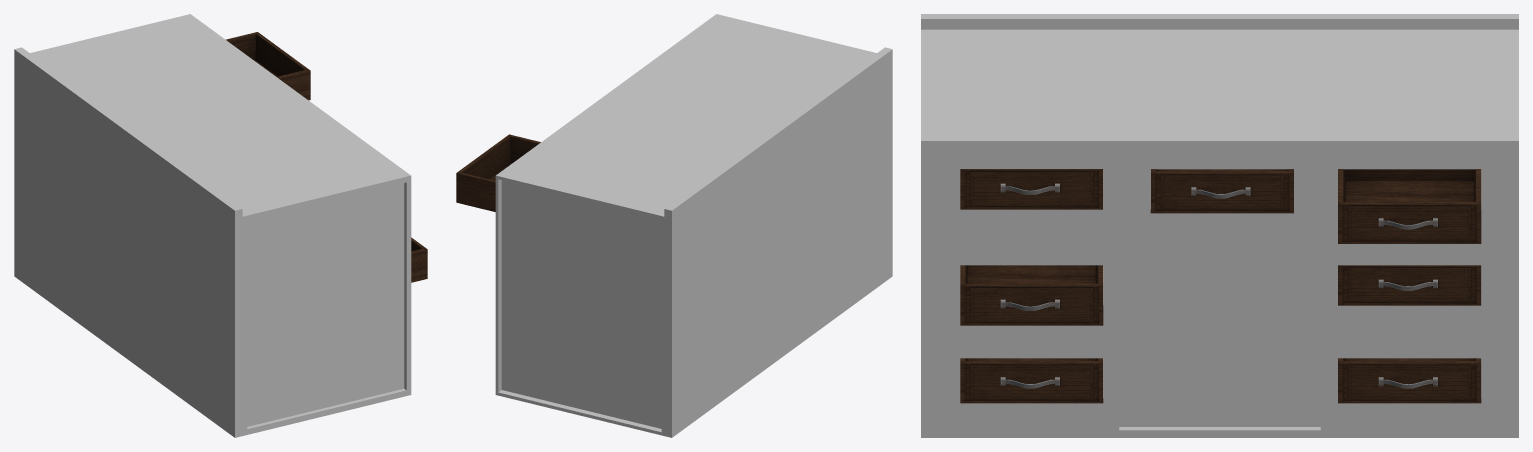
File: Desk.fbx
3 views of the same model, side by side, from view 1: azimuth 30°, elevation 25°; view 2: azimuth 150°, elevation 25°; view 3: azimuth 270°, elevation 25° (orthographic). The views are drawn at different scales.
Visible parts, largest first — view 1: Base Desk, Drawer.003, Drawer.001; view 2: Base Desk, Drawer.003; view 3: Base Desk, Drawer.003, Drawer.001, Drawer.002, Drawer.005, Drawer.006, Drawer, Drawer.004.
Part boxes in pixels (x1,y1,x2,y2): Base Desk: (14,14,411,437); Drawer.003: (226,32,310,100); Drawer.001: (411,237,427,282); Base Desk: (495,14,892,437); Drawer.003: (456,134,540,211); Base Desk: (921,14,1518,437); Drawer.003: (1338,169,1481,243); Drawer.001: (960,265,1103,325); Drawer.002: (960,358,1103,403); Drawer.005: (1338,358,1481,403); Drawer.006: (1150,169,1293,213); Drawer: (960,169,1103,209); Drawer.004: (1338,265,1481,305).
Size of the model in its own units: 267 by 246 by 434.
